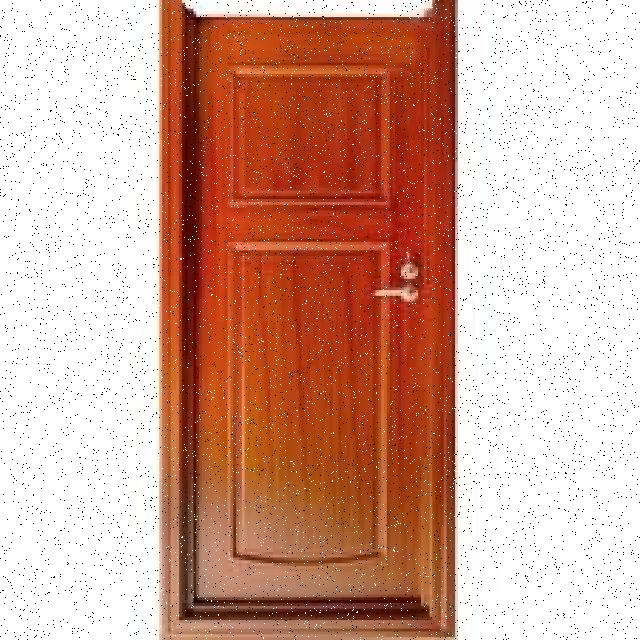Door: (179, 8, 445, 620)
